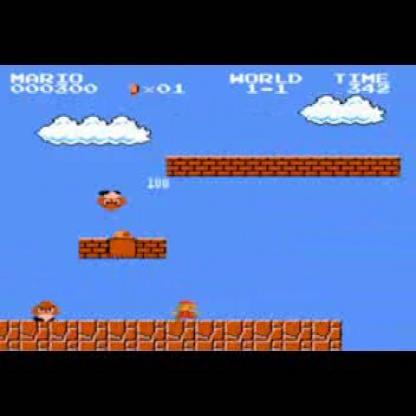Goomba: (33, 298, 59, 323), (100, 190, 127, 211)
Hoyo: (336, 318, 414, 351)
